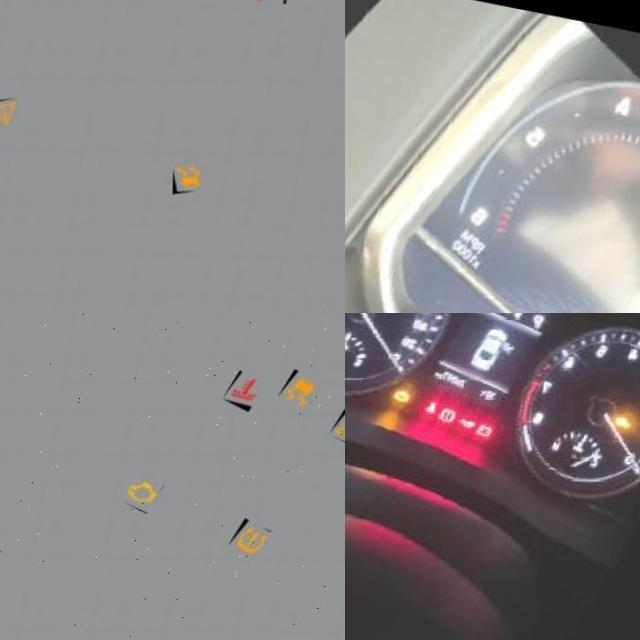Seat Belt: (439, 398, 455, 414)
